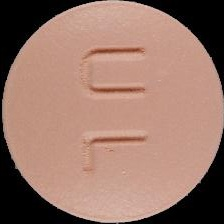50090-0789: (0, 0, 224, 224)
